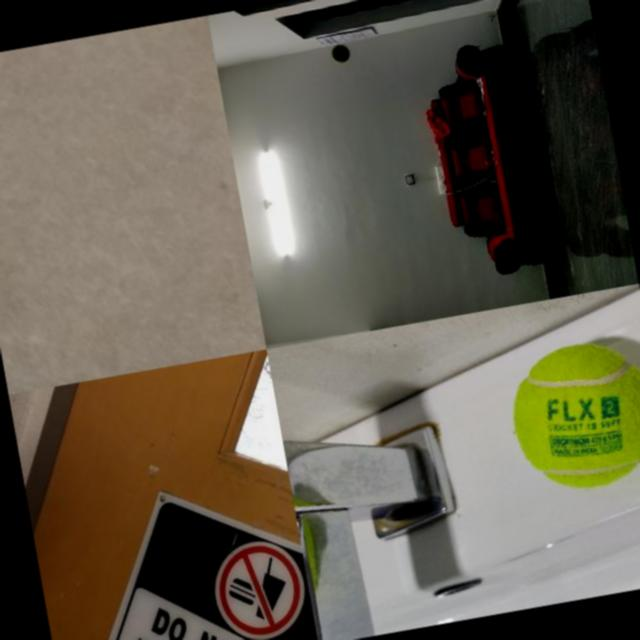tennis-ball: (499, 333, 640, 499), (329, 43, 352, 65)
